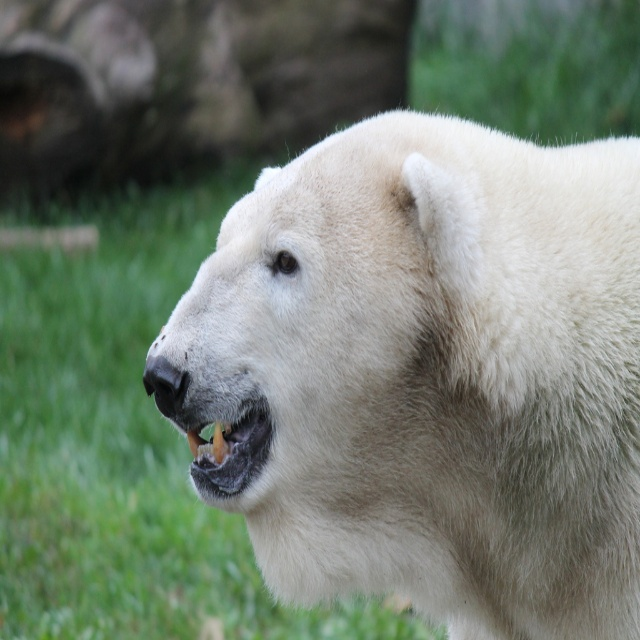Polar bear: (141, 110, 640, 640)
